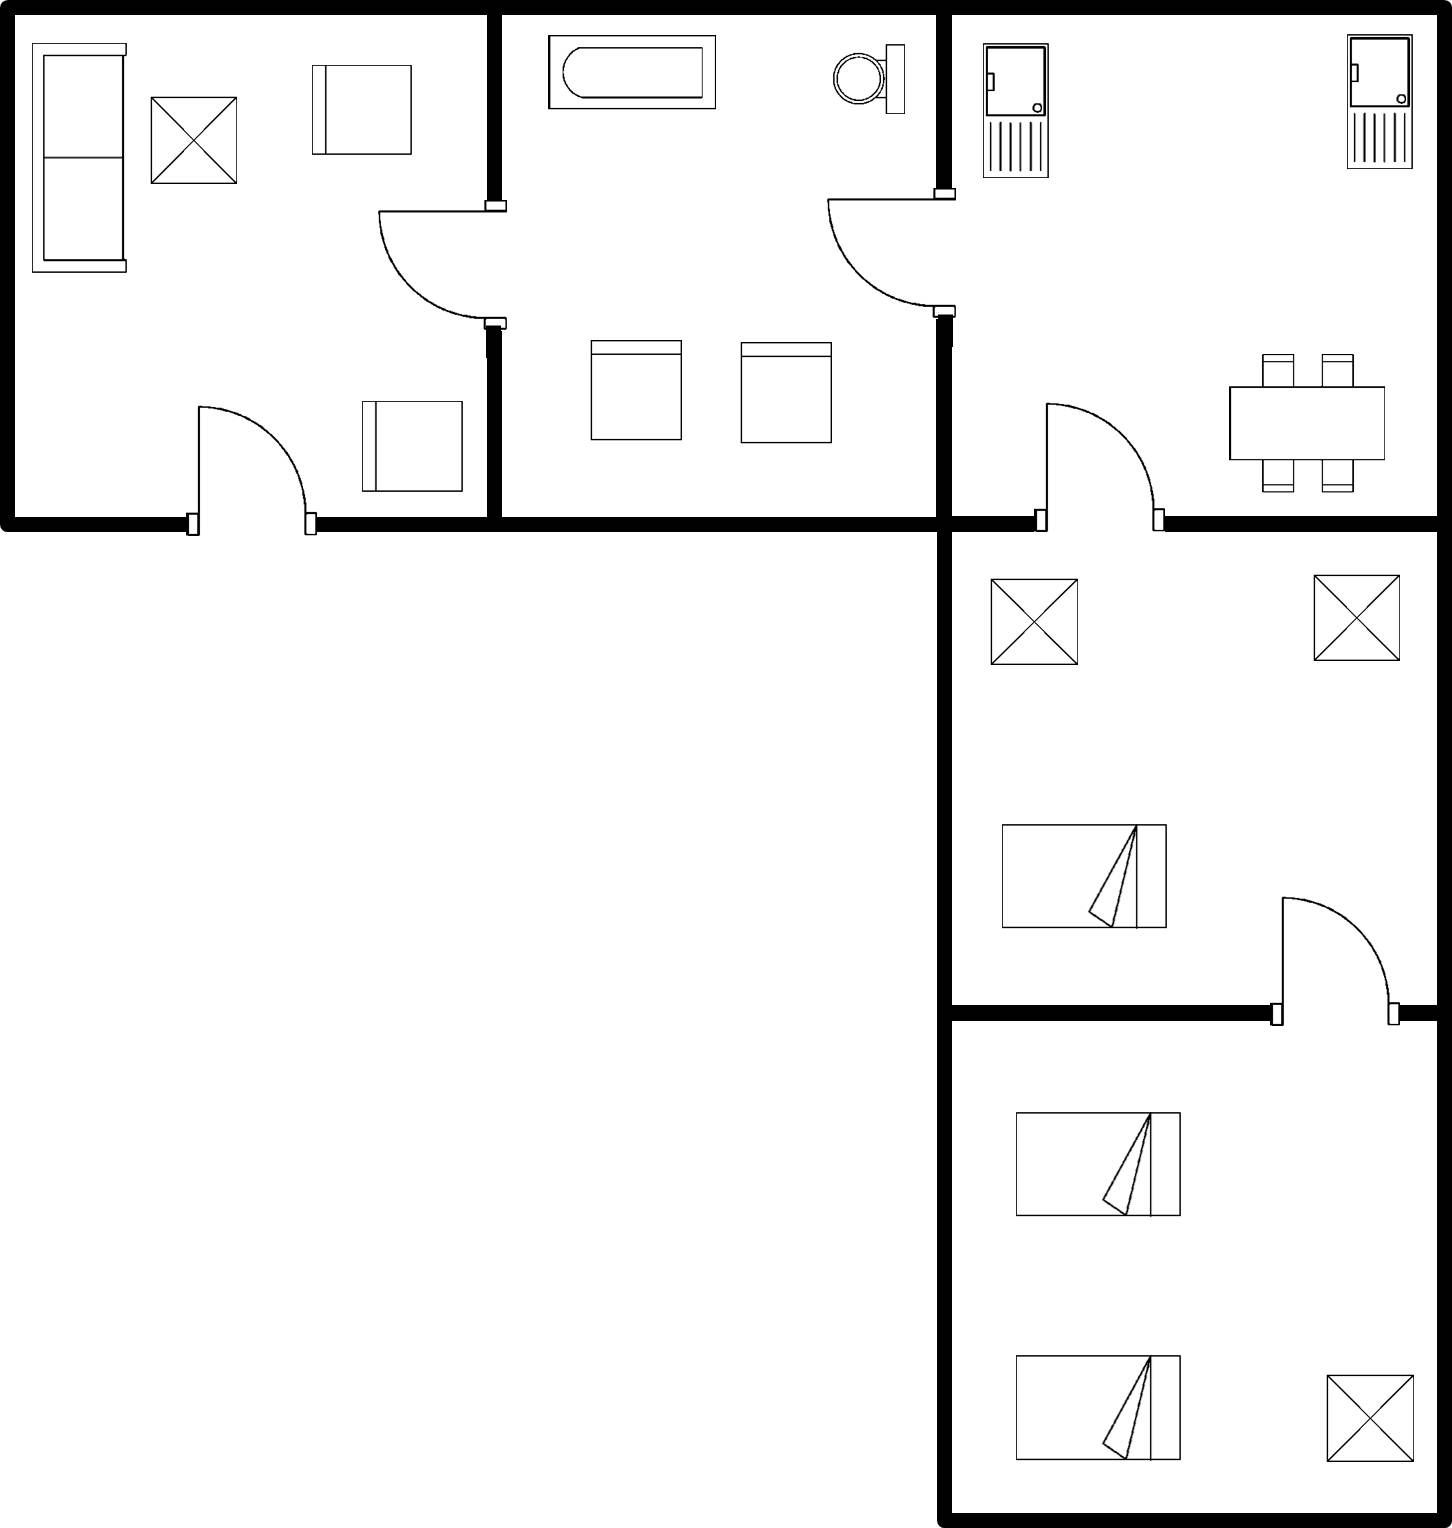bed: (1002, 1102, 1195, 1232), (992, 811, 1181, 941), (1002, 1345, 1195, 1471)
coffee_table: (990, 814, 1178, 941), (1317, 1363, 1426, 1474), (980, 569, 1087, 680), (1301, 566, 1411, 672), (141, 86, 246, 196)
dining_table: (1217, 342, 1396, 500)
large_sink: (822, 30, 917, 129)
large_sofa: (20, 33, 135, 283)
sink: (1334, 24, 1426, 183), (972, 30, 1061, 193)
small_sofa: (729, 330, 841, 456), (302, 54, 428, 165), (580, 326, 695, 448), (353, 393, 474, 502)
tub: (538, 18, 725, 124)
